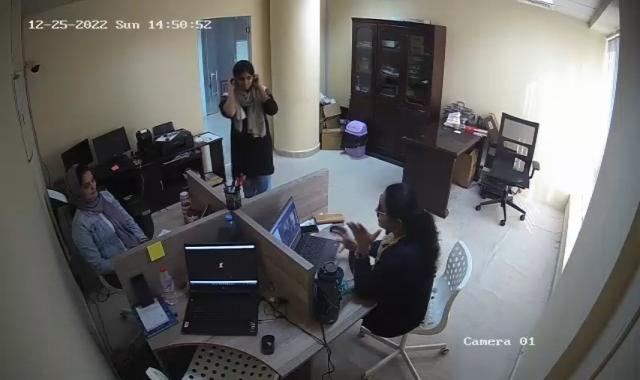no_hairnet: (375, 183, 417, 233), (66, 166, 98, 200), (231, 60, 256, 90)
